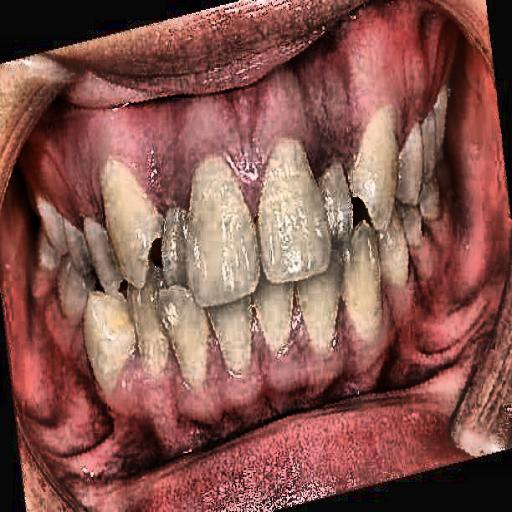Gingivitis: (50, 60, 366, 181)
